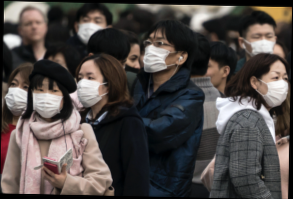with_mask: (30, 83, 65, 119), (3, 76, 32, 118), (73, 70, 105, 108), (141, 34, 170, 72), (262, 69, 289, 109), (75, 14, 107, 44), (248, 30, 276, 57)
without_mask: (19, 17, 47, 41)
